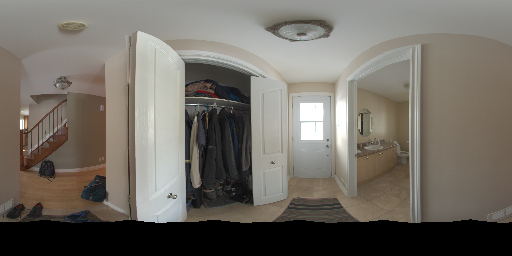light: (300, 102, 325, 141)
non_light: (290, 27, 312, 38)
